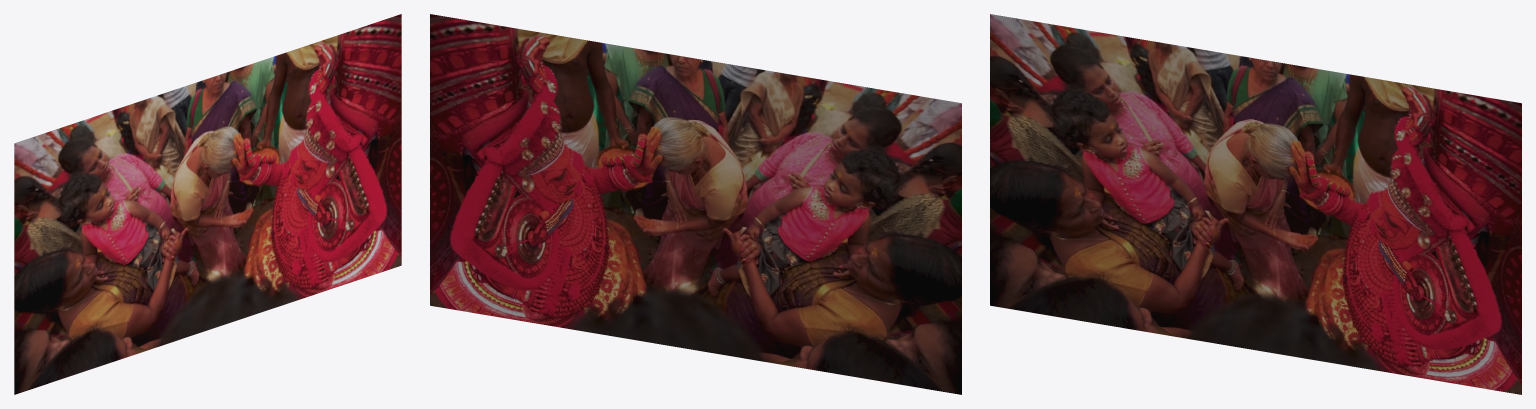
3 views of the same model, side by side, from view 1: azimuth 30°, elevation 25°; view 2: azimuth 150°, elevation 25°; view 3: azimuth 330°, elevation 25° (orthographic). The views are drawn at different scales.
Parts seen in each view (by area): view 1: 5; view 2: 5; view 3: 5.
Boxes of the visible parts, x1,y1,x2,y2 form: 5: [14, 14, 401, 394]; 5: [430, 14, 961, 394]; 5: [990, 14, 1521, 394].
Size of the model in its own units: 2.48 by 1.41 by 0.3626.
1 material, 1 textured.
